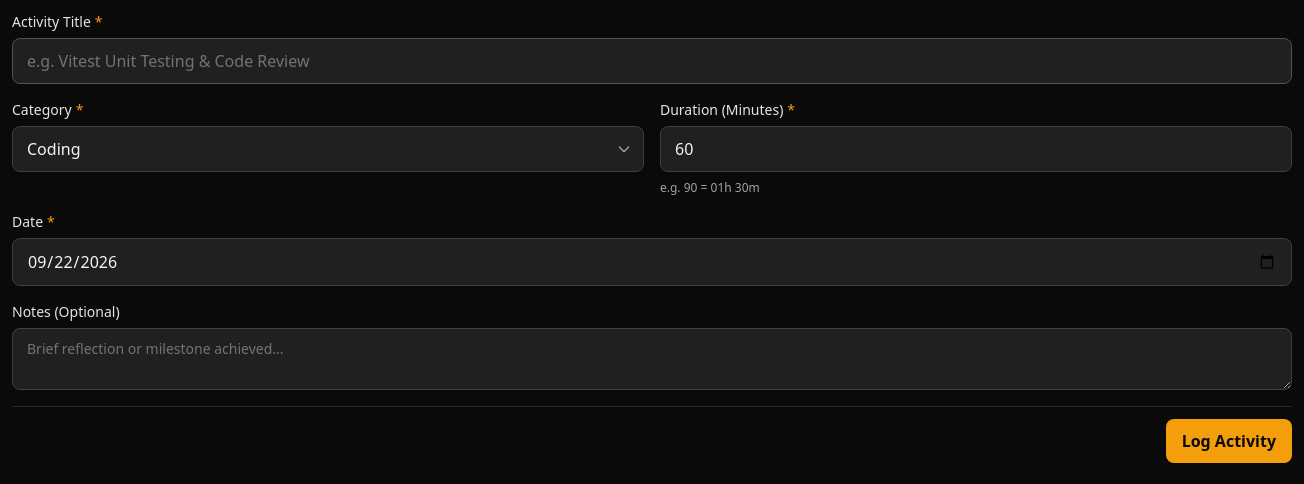
Activity Component & Validation › rejects duration greater than 24 hours (1440 mins) with error message
Type "Unrealistic Marathon" into the field labelled "Activity Title*".
click(652, 61); type("Unrealistic Marathon")  # box [12,38,1292,84]
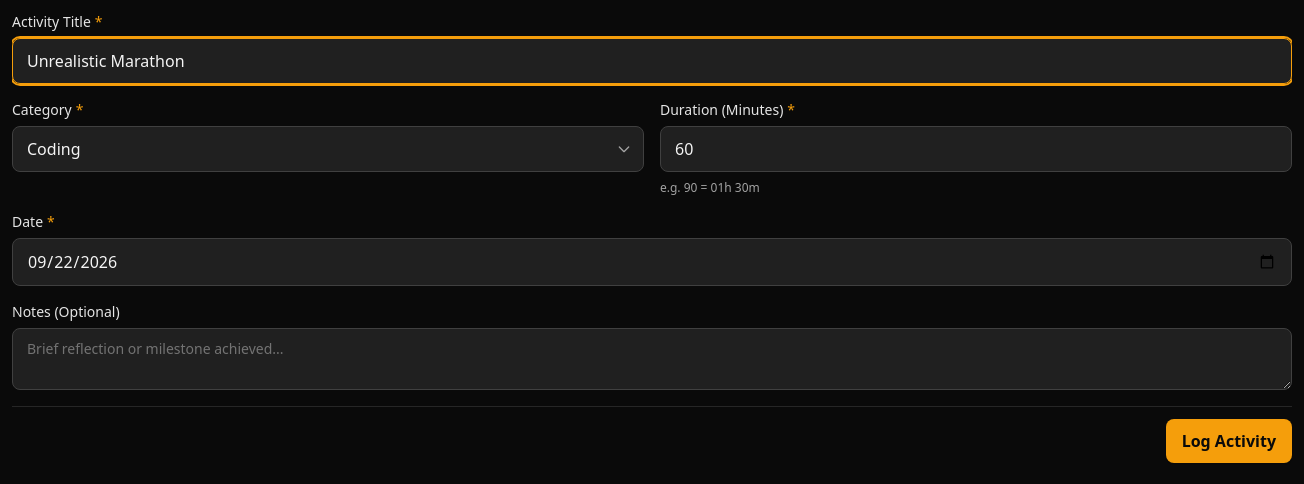
Type "2000" into the number field labelled "Duration (Minutes)*".
click(976, 149); type("2000")  # box [660,126,1292,172]
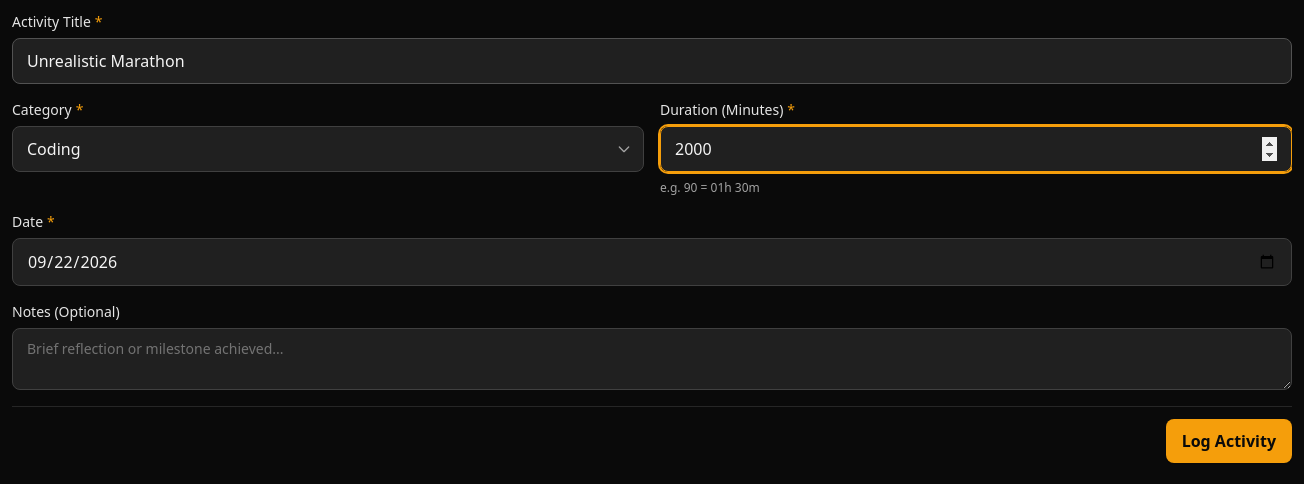
Click the button "Log Activity".
click(1229, 441)  # box [1166,419,1292,463]
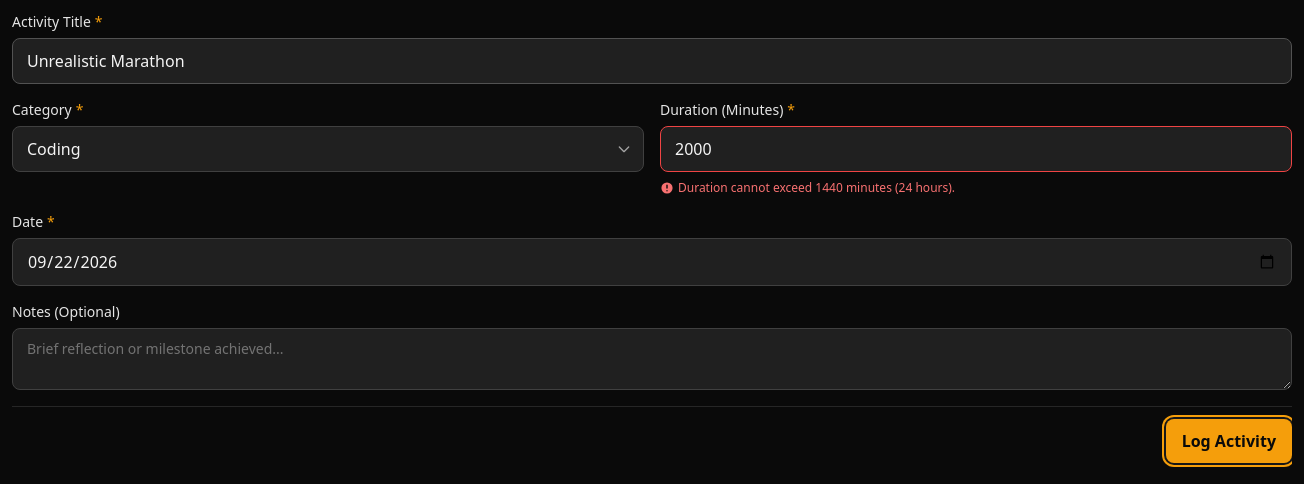
Now the text "Duration cannot exceed 1440 minutes (24 hours)." is shown, box [660,179,955,196]
